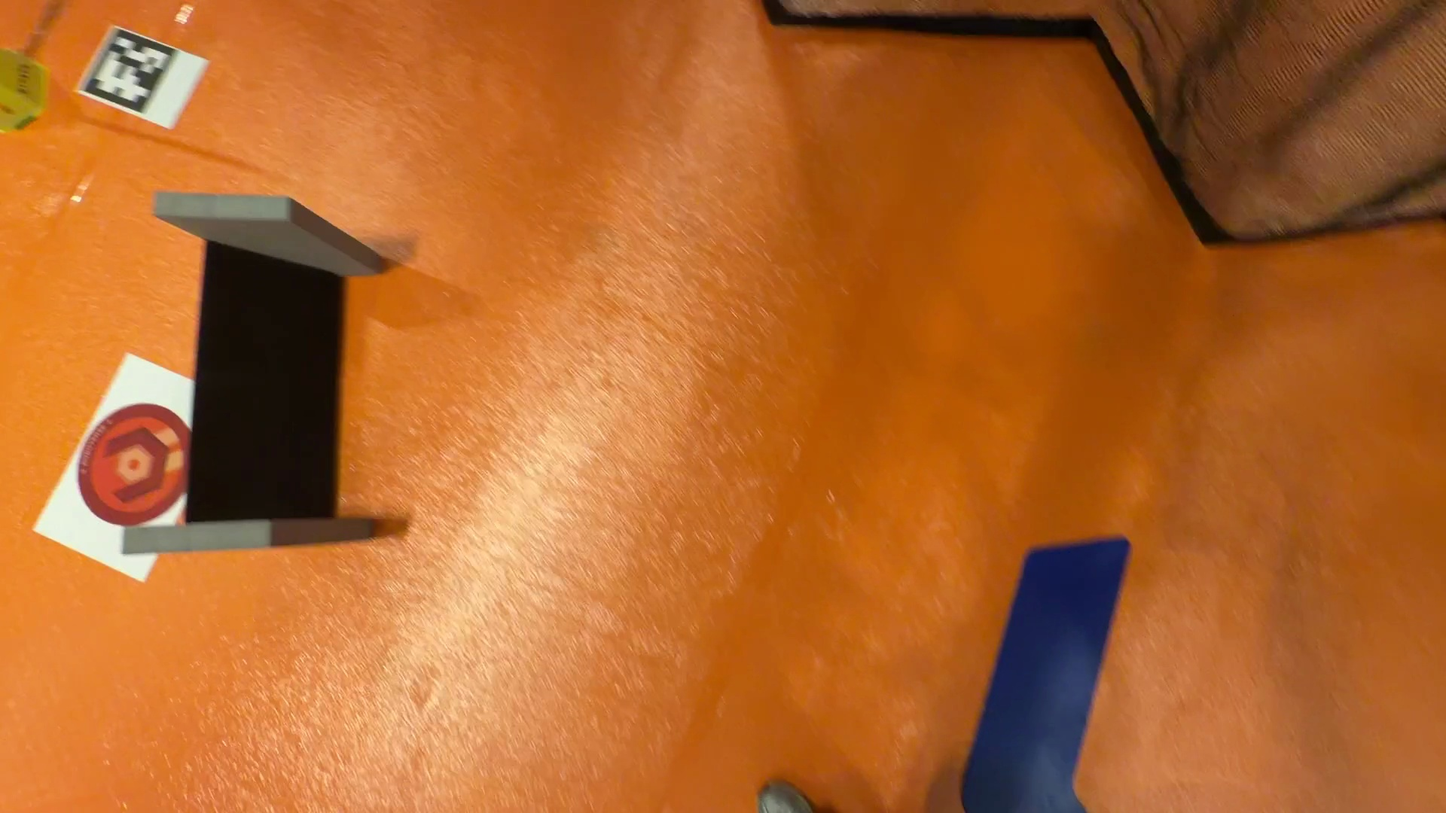landing_pad: (76, 402, 190, 519)
